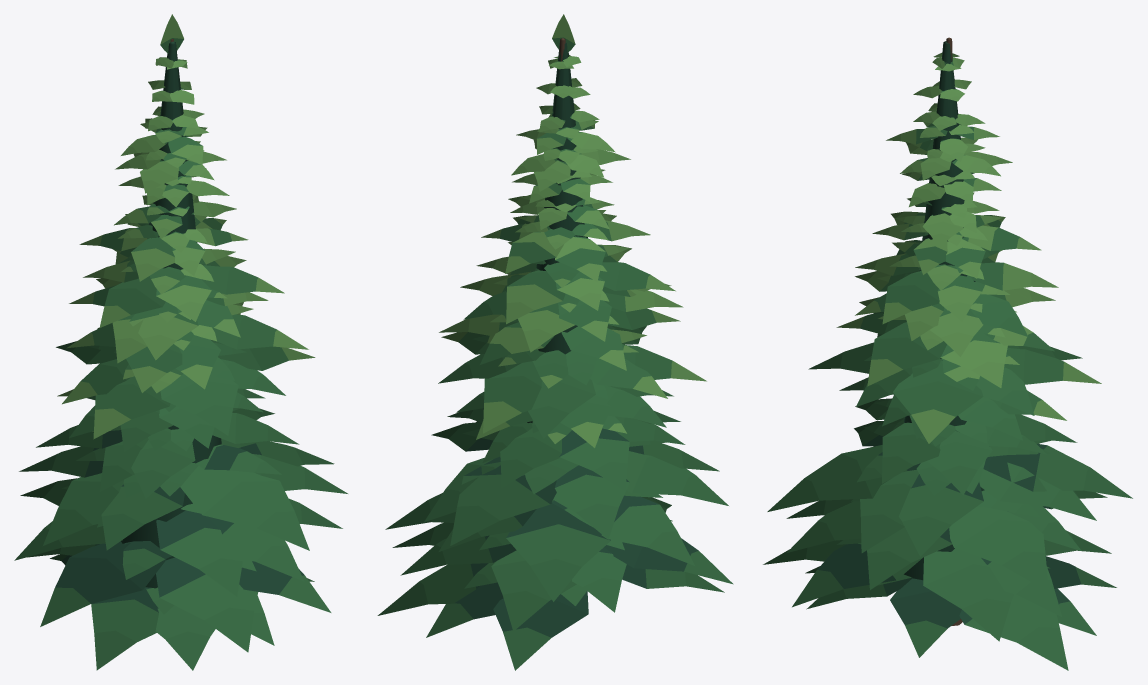
The model's file is SpruceA.glb.
3 views of the same model, side by side, from view 1: azimuth 30°, elevation 25°; view 2: azimuth 150°, elevation 25°; view 3: azimuth 270°, elevation 25° (orthographic). The views are drawn at different scales.
Parts seen in each view (by area): view 1: SpruceA.needleMid, SpruceA.needleLight, SpruceA.needleDark; view 2: SpruceA.needleMid, SpruceA.needleLight, SpruceA.needleDark; view 3: SpruceA.needleMid, SpruceA.needleLight, SpruceA.needleDark.
Boxes of the visible parts, x1,y1,x2,y2 form: SpruceA.needleMid: (14,38,347,670); SpruceA.needleLight: (57,14,315,439); SpruceA.needleDark: (55,41,304,612); SpruceA.needleMid: (377,37,733,670); SpruceA.needleLight: (439,14,706,447); SpruceA.needleDark: (454,42,698,637); SpruceA.needleMid: (763,61,1132,670); SpruceA.needleLight: (836,53,1101,443); SpruceA.needleDark: (817,41,1081,628).
Size of the model in its own units: 17.42 by 33.7 by 18.74.
